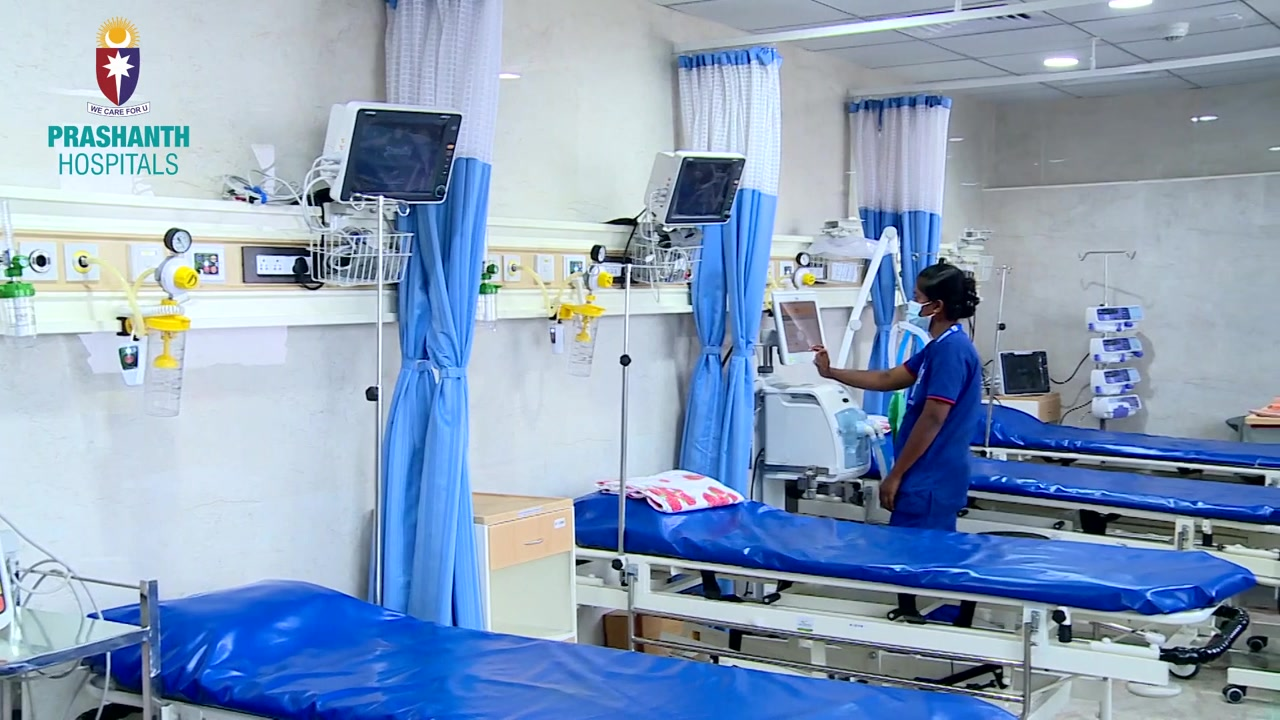bedrail: (627, 575, 1031, 699)
bedside_monitor: (340, 108, 462, 201), (665, 157, 746, 224), (771, 290, 827, 365), (998, 349, 1051, 397)
bedside_table: (471, 491, 578, 645), (980, 392, 1061, 425)
breathing_tube: (869, 321, 931, 483)
curtain: (367, 1, 503, 632), (677, 44, 784, 632), (846, 92, 953, 481)
handle: (523, 537, 545, 545)
hospital_bed: (572, 469, 1257, 720), (80, 579, 1022, 720), (797, 413, 1280, 680), (968, 403, 1280, 615)
iv_pole: (349, 192, 410, 607), (586, 262, 672, 556), (1077, 250, 1137, 430), (985, 264, 1011, 447), (911, 251, 964, 264)
staff: (810, 263, 983, 627)
syringe_pump: (1085, 305, 1145, 333), (1089, 336, 1144, 364), (1090, 366, 1141, 395), (1091, 393, 1142, 420)
utility_cart: (1, 560, 162, 720)
ventilator: (764, 377, 871, 486)
